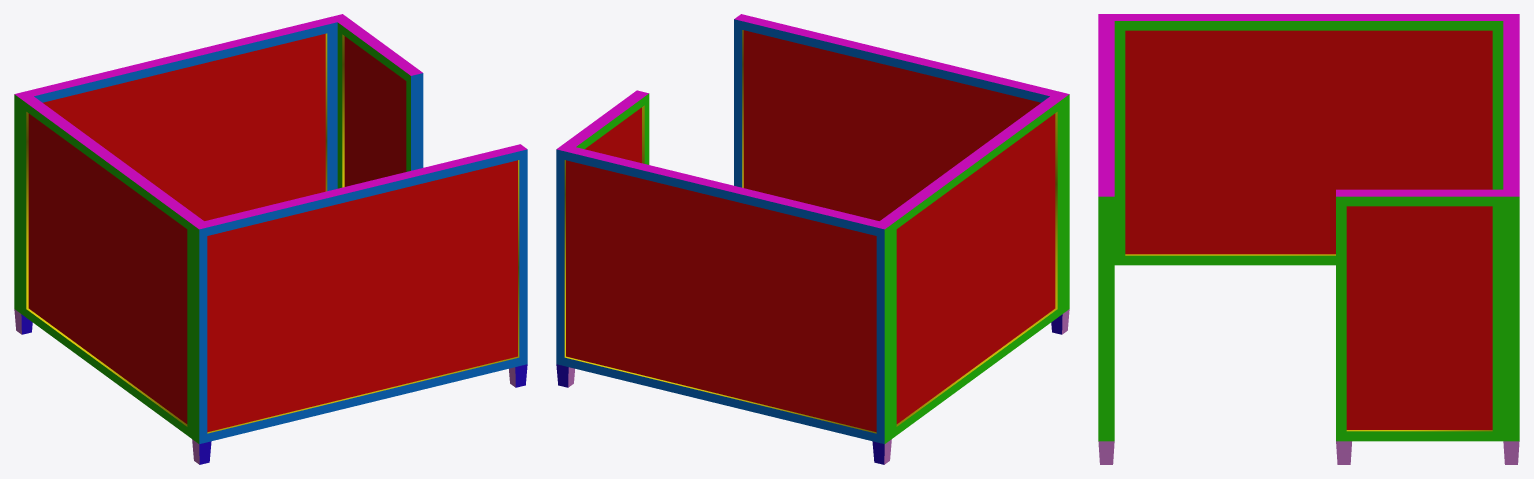
Rendered from CT_Cubicle.fbx.
The picture shows the model from 3 angles, left to right: view 1: azimuth 30°, elevation 25°; view 2: azimuth 150°, elevation 25°; view 3: azimuth 270°, elevation 25°; orthographic projection. The views are drawn at different scales.
Visible parts, largest first — view 1: Cubicle-low; view 2: Cubicle-low; view 3: Cubicle-low.
Boxes of the visible parts, box(x1,y1,x2,y2) form: Cubicle-low: box(14, 14, 527, 464); Cubicle-low: box(556, 14, 1069, 464); Cubicle-low: box(1098, 14, 1519, 464).
Size of the model in its own units: 4 by 2.75 by 3.9.
